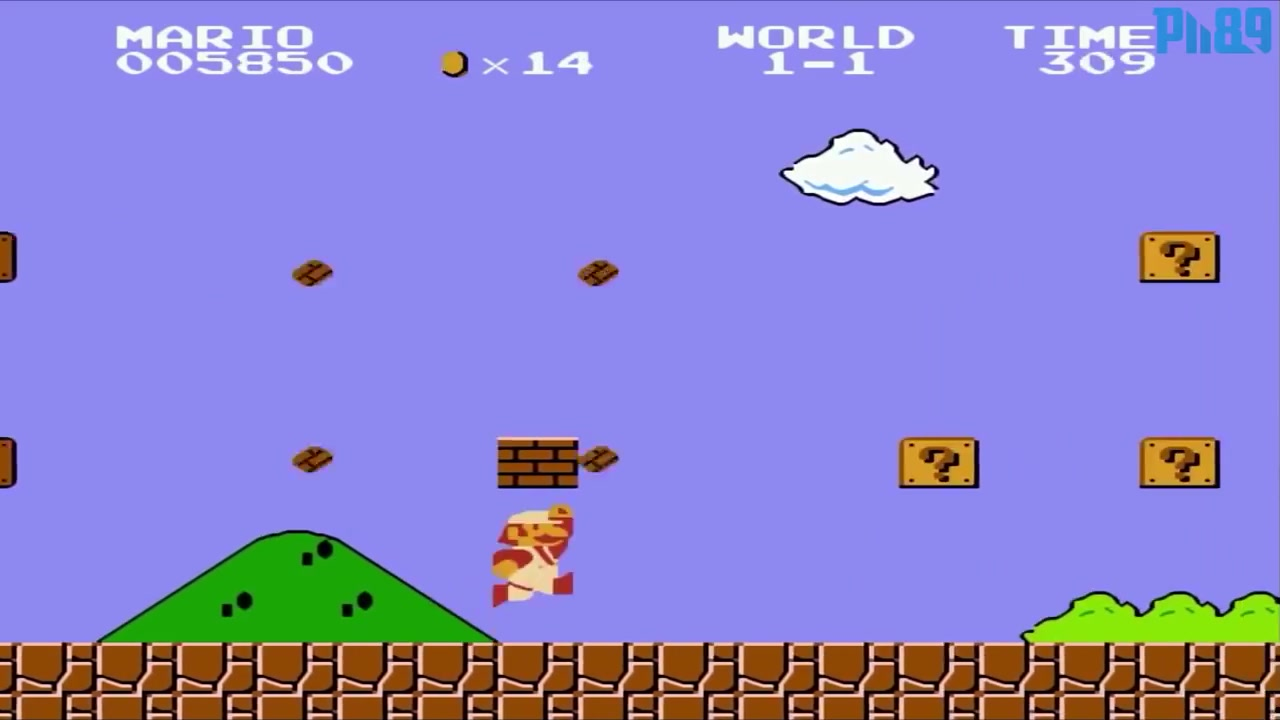mario: (482, 499, 584, 615)
